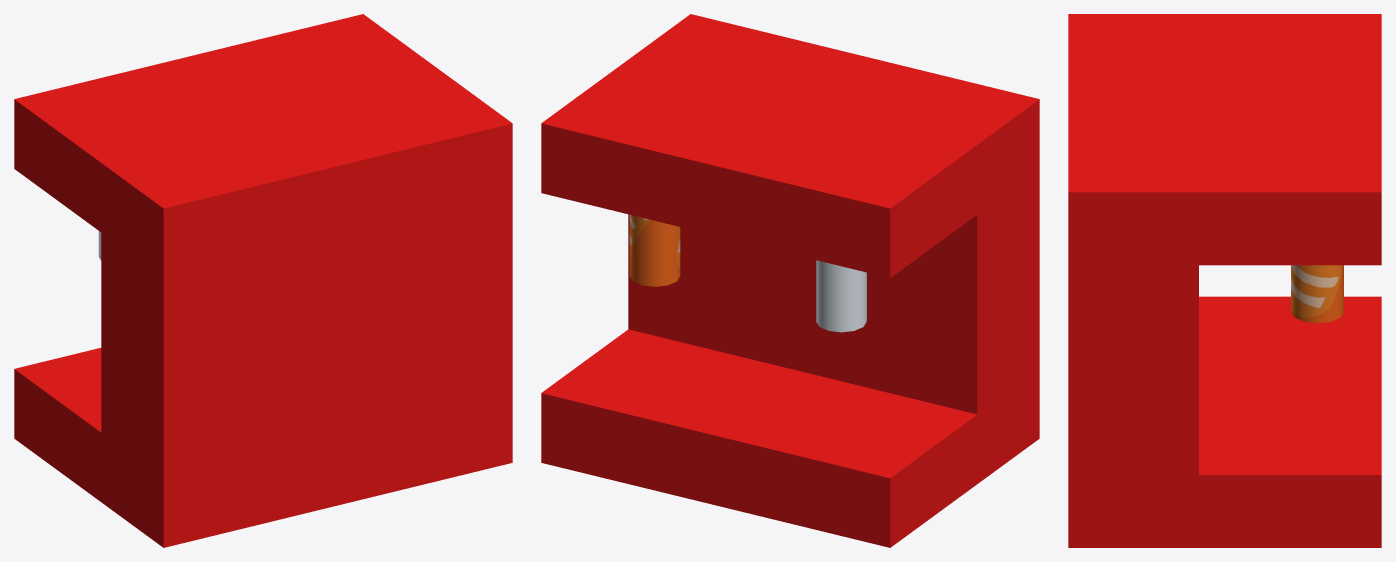
File: may cocacola.FBX
3 views of the same model, side by side, from view 1: azimuth 30°, elevation 25°; view 2: azimuth 150°, elevation 25°; view 3: azimuth 270°, elevation 25° (orthographic). The views are drawn at different scales.
Visible parts, largest first — view 1: Box072; view 2: Box072; view 3: Box072.
Part boxes in pixels (x1,y1,x2,y2): Box072: [14, 14, 512, 547]; Box072: [541, 14, 1039, 547]; Box072: [1068, 14, 1381, 547].
Bounding box in the file's own units: 1.47 × 1.36 × 1.09.
